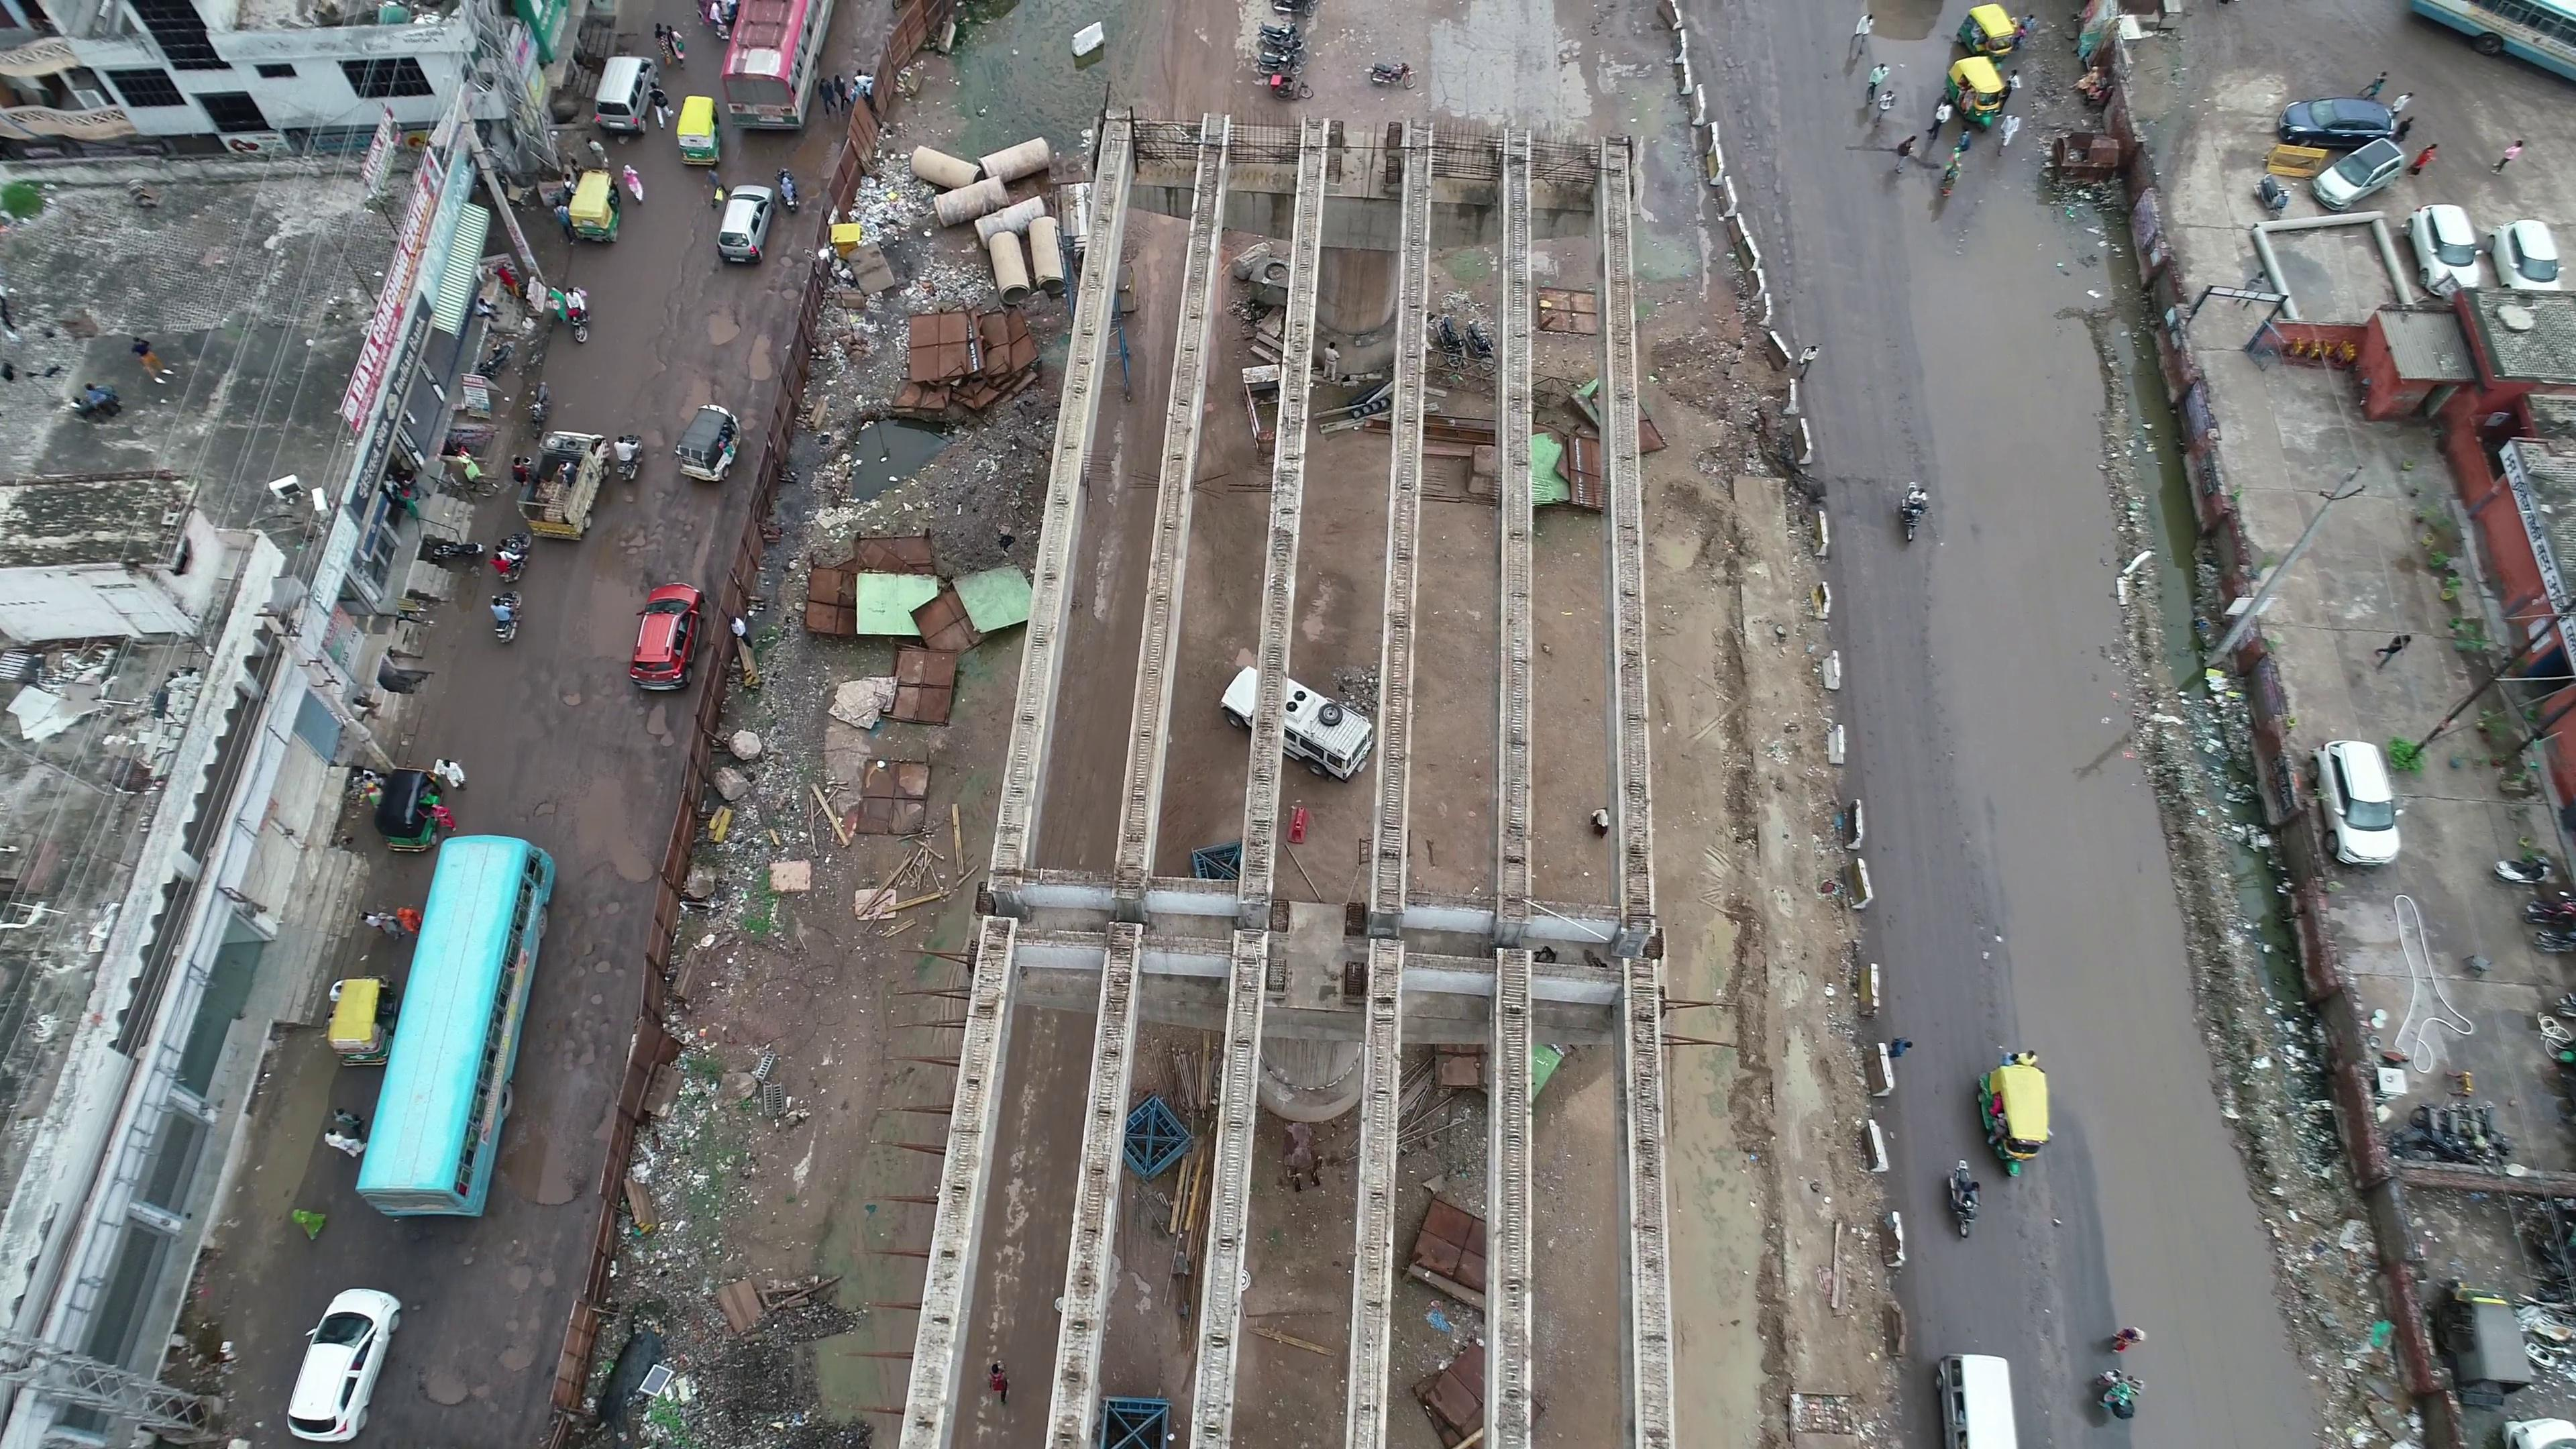Potholes: (416, 1215, 563, 1410), (536, 874, 642, 1067), (534, 678, 688, 757), (679, 287, 777, 387), (628, 494, 709, 577), (770, 237, 810, 318)
Waterlogging: (1913, 244, 2118, 736), (2005, 856, 2229, 1244)
